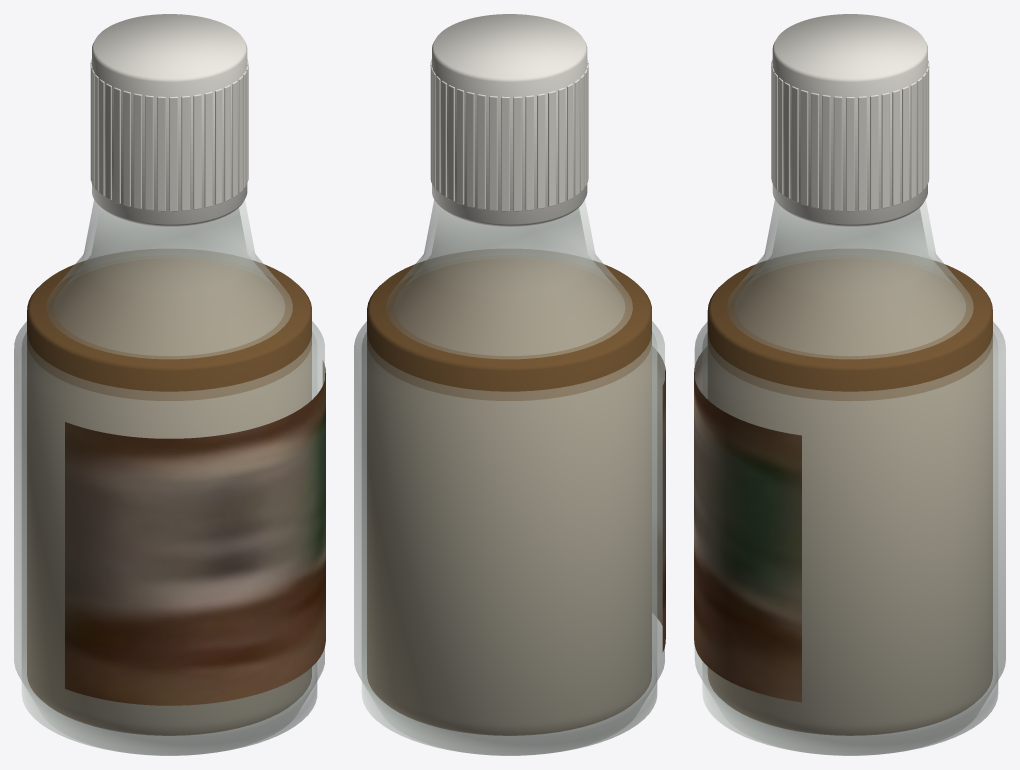
The model's file is pantry_contents__small_spice_bottle.glb.
The picture shows the model from 3 angles, left to right: view 1: azimuth 30°, elevation 25°; view 2: azimuth 150°, elevation 25°; view 3: azimuth 270°, elevation 25°; orthographic projection.
Visible parts, largest first — view 1: small_spice_bottle__body, small_spice_bottle__cap; view 2: small_spice_bottle__body, small_spice_bottle__cap; view 3: small_spice_bottle__body, small_spice_bottle__cap.
Boxes of the visible parts, box(x1,y1,x2,y2) form: small_spice_bottle__body: box(14, 200, 325, 755); small_spice_bottle__cap: box(90, 14, 248, 226); small_spice_bottle__body: box(354, 200, 665, 755); small_spice_bottle__cap: box(430, 14, 588, 226); small_spice_bottle__body: box(694, 199, 1005, 755); small_spice_bottle__cap: box(771, 14, 929, 226).
Bounding box in the file's own units: 0.0491 × 0.1139 × 0.0492.
4 materials, 1 textured.
